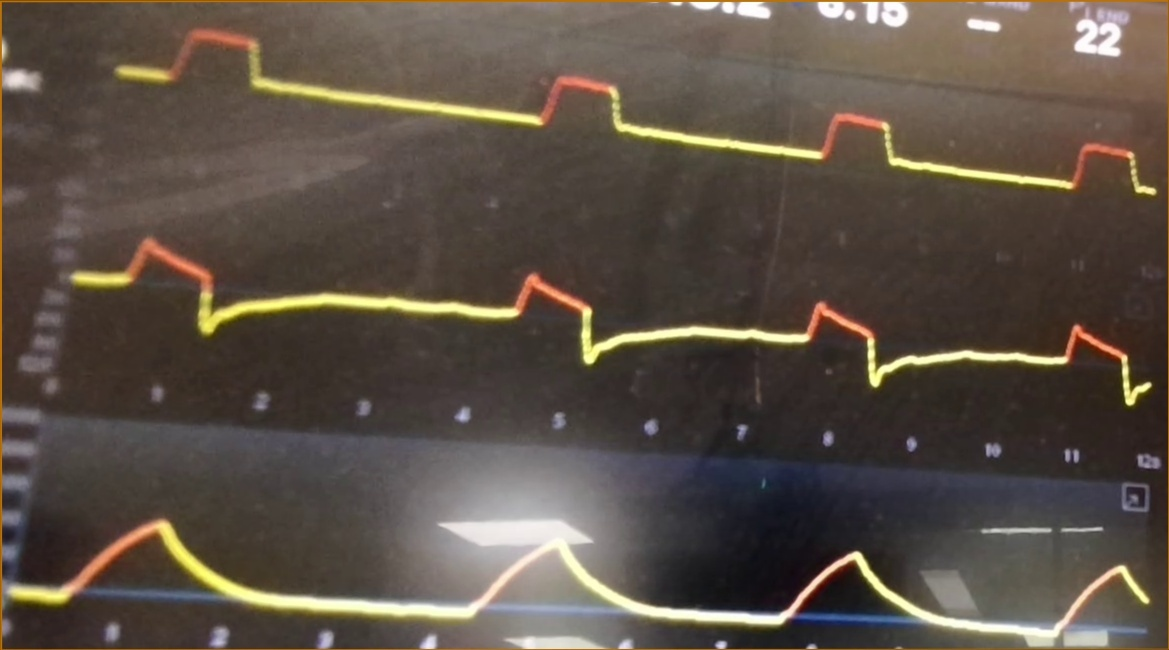Normal Flow: (71, 231, 1148, 409)
Normal Volume: (6, 487, 1153, 641)
